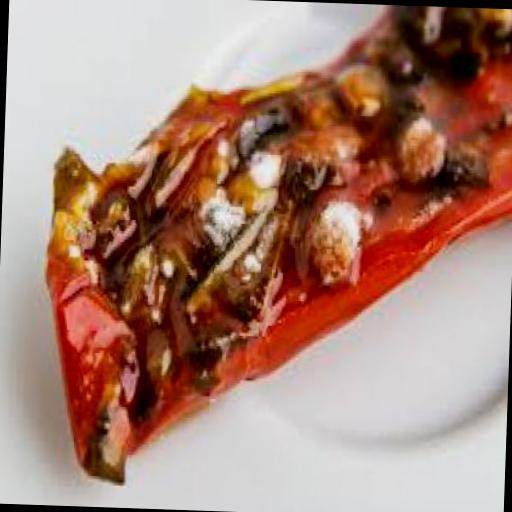biodegradable: (41, 0, 512, 495)
